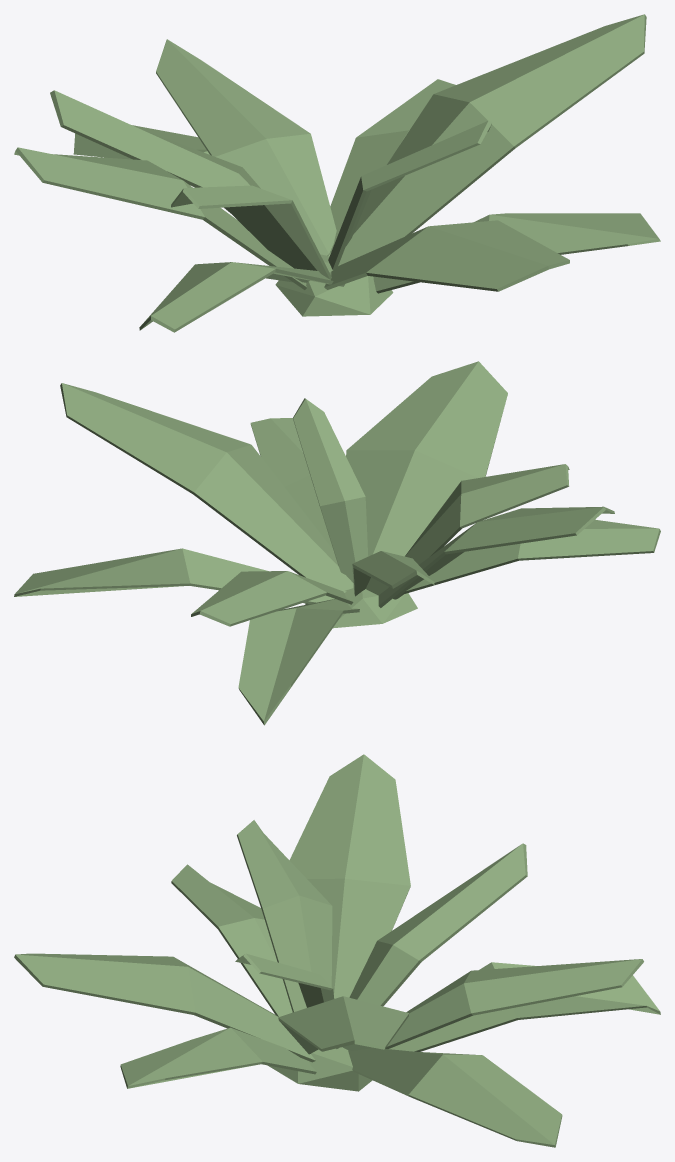
Rendered from fern.fbx.
3 renders of one model, top to bottom at view 1: azimuth 30°, elevation 25°; view 2: azimuth 150°, elevation 25°; view 3: azimuth 270°, elevation 25°, orthographic. The views are drawn at different scales.
Visible parts, largest first — view 1: pPlane13; view 2: pPlane13; view 3: pPlane13.
Part boxes in pixels (<box>): pPlane13: <box>14,14,660,332</box>; pPlane13: <box>14,361,660,725</box>; pPlane13: <box>14,754,660,1147</box>.
Size of the model in its own units: 4.99 by 1.59 by 4.97.
